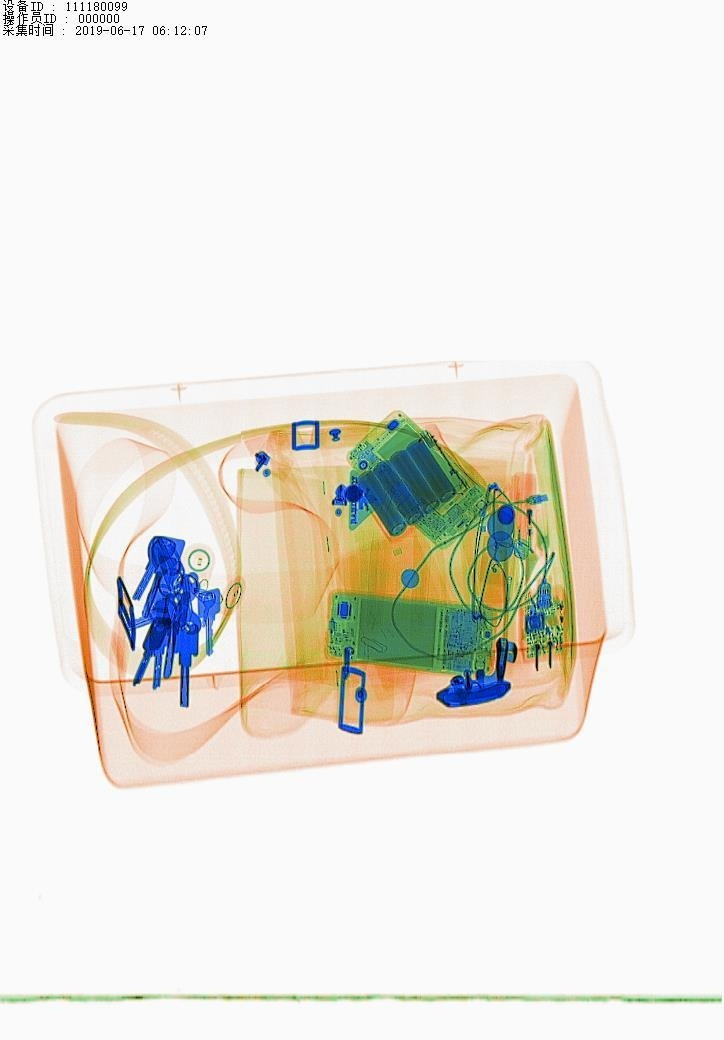NonmetallicFire: (504, 473, 546, 570)
